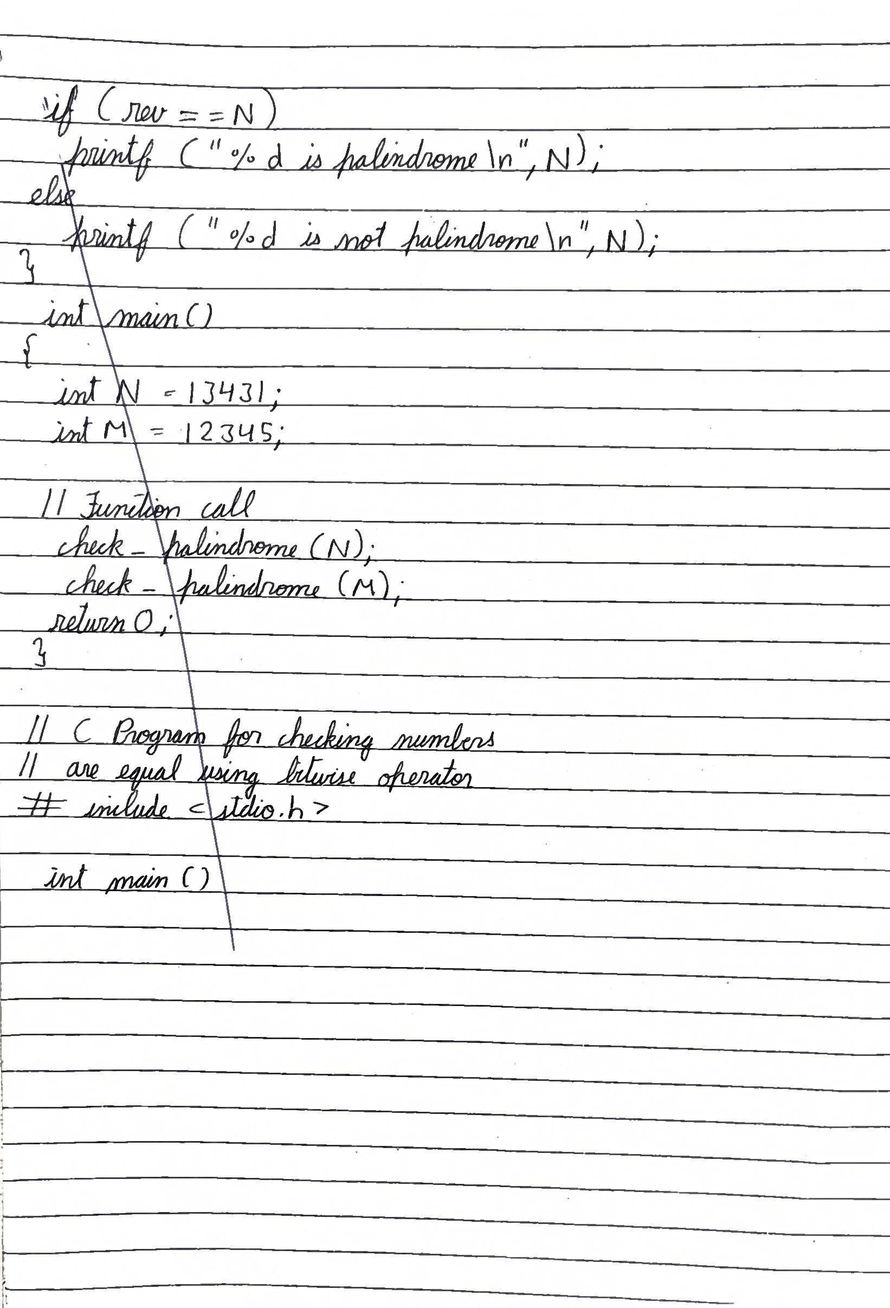cuttings: (14, 78, 665, 953)
